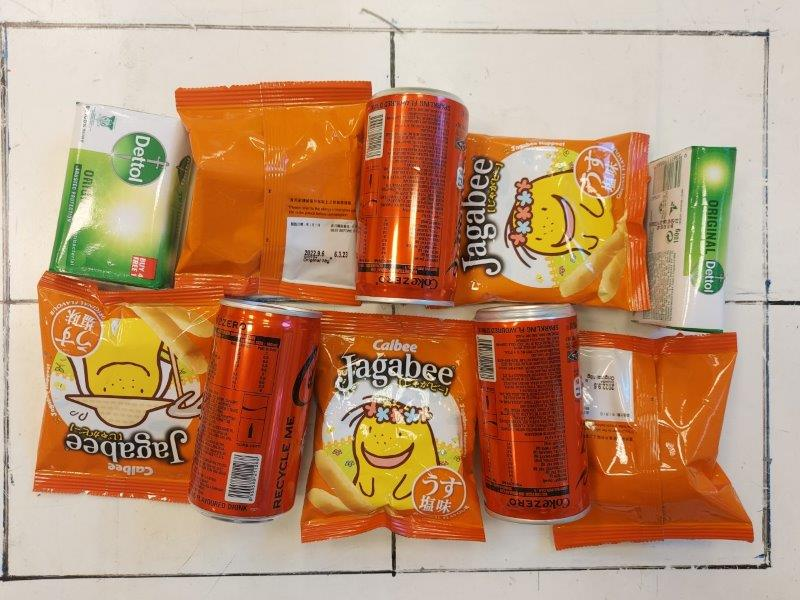Coke: (190, 296, 321, 523), (474, 304, 589, 523), (356, 90, 472, 305)
Dettol: (46, 102, 199, 289), (633, 145, 735, 334)
Jagabee: (34, 271, 227, 516), (173, 80, 374, 311), (550, 327, 754, 551), (300, 306, 486, 543), (428, 130, 650, 313)
